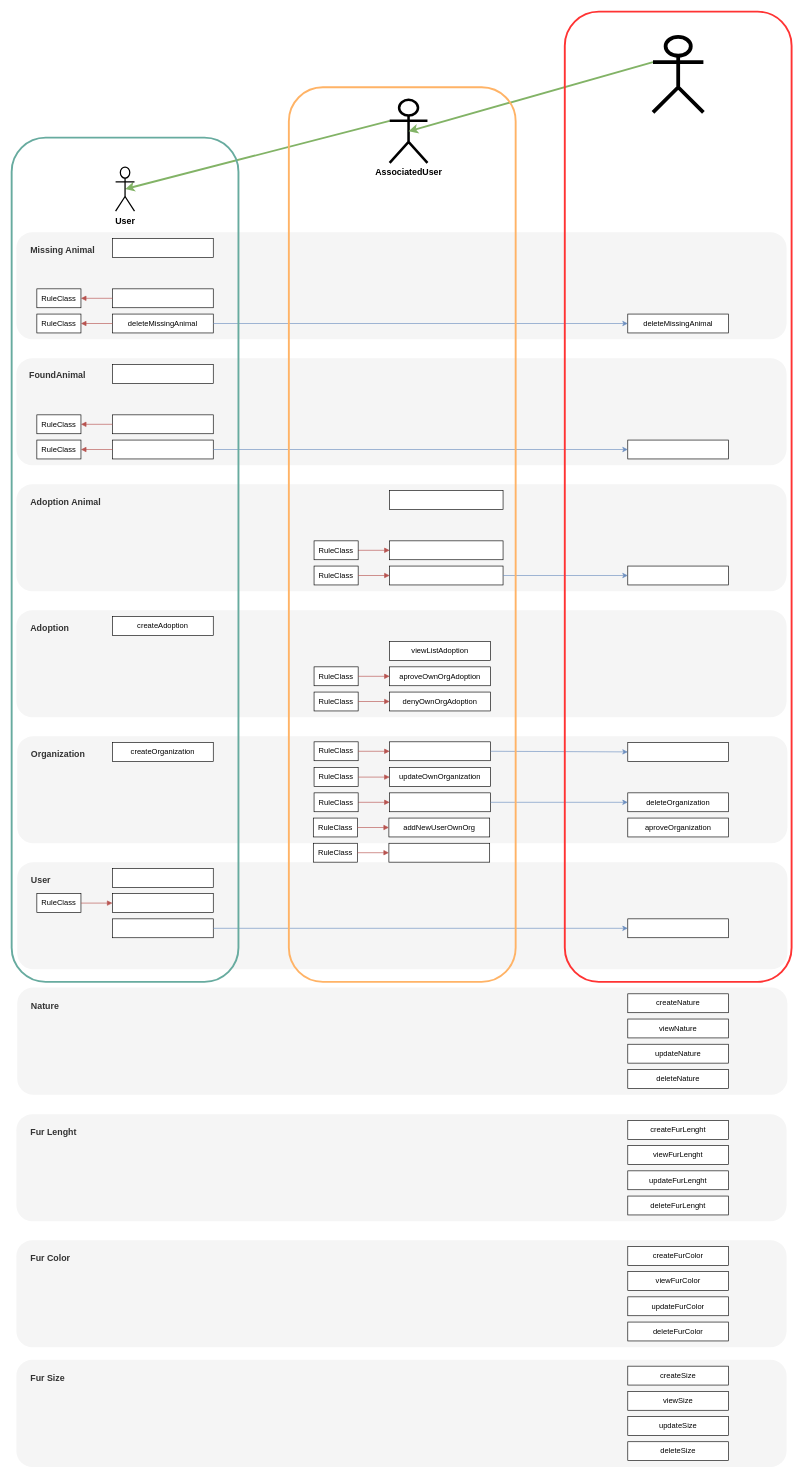
Image size: 803x1478. Some labels were removed from this diagram. The shapes that lost their labels are listed below. From the top down, each one's centre as x and y in pixels, then its label:
At (x=678, y=74): "AdminUser".
At (x=162, y=247): "createMissingAnimal".
At (x=162, y=298): "updateOwnMissingAnimal".
At (x=162, y=373): "createFoundAnimal".
At (x=162, y=424): "updateOwnFoundAnimal".
At (x=162, y=449): "deleteOwnFoundAnimal".
At (x=678, y=449): "deleteFoundAnimal".
At (x=446, y=499): "createAdoptionAnimal".
At (x=446, y=550): "updateOwnOrgAdoptionAnimal".
At (x=446, y=575): "deleteOwnOrgMissingAnimal".
At (x=678, y=575): "deleteAdoptionAnimal".
At (x=439, y=751): "viewListOwnOrgUsers".
At (x=678, y=751): "viewListOrganizations".
At (x=439, y=802): "deleteOwnOrganization".
At (x=439, y=852): "removeNewUserOwnOrg".
At (x=162, y=877): "logout".
At (x=162, y=903): "updateOwnUser".
At (x=162, y=928): "deleteOwnUser".
At (x=678, y=928): "deleteUser".
